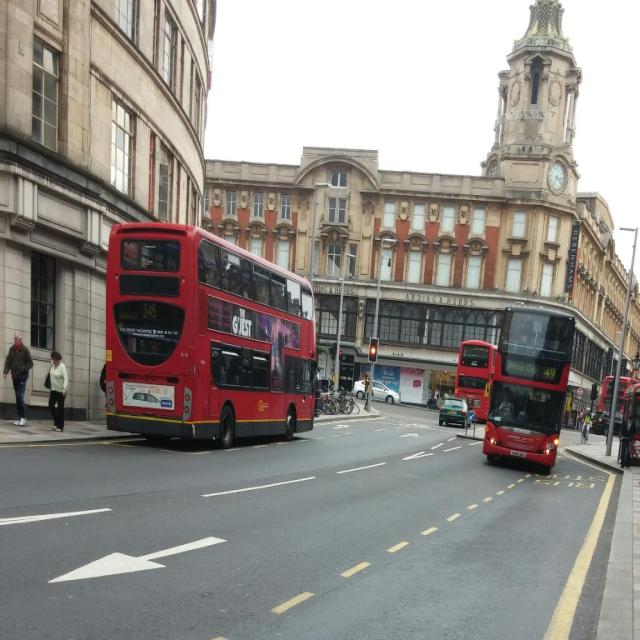Buses: (104, 223, 318, 450), (480, 299, 575, 483), (453, 339, 492, 398)
Passenger Car: (351, 378, 401, 407), (436, 396, 474, 429)
Pedestrians: (5, 333, 34, 428), (44, 352, 70, 435)
